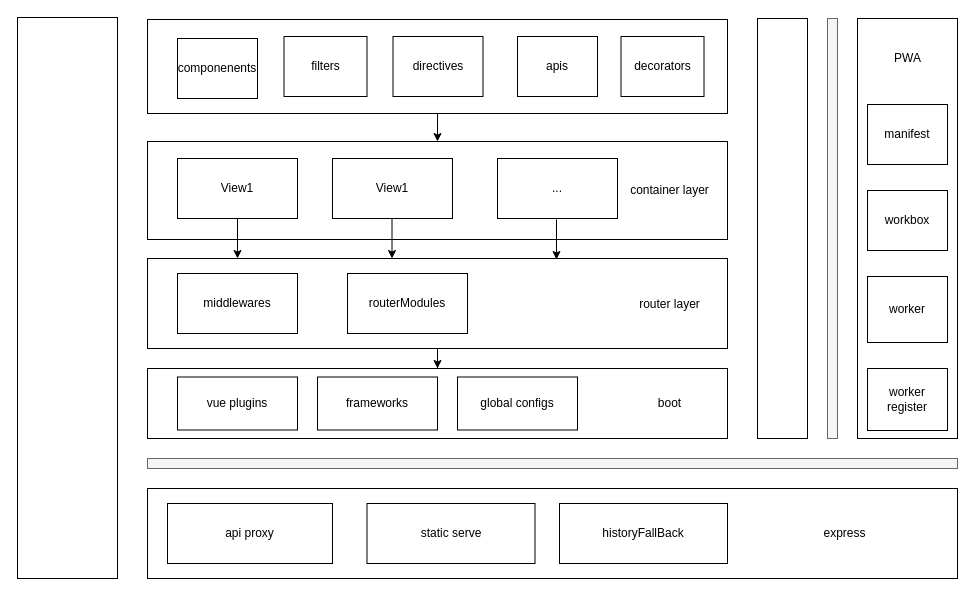
The diagram is 975 pixels wide and 596 high, and some of its shapes have lost their labels. Each missing label, with the centre of its shape:
"config" goes at point (67, 297).
"vuex" goes at point (782, 228).
